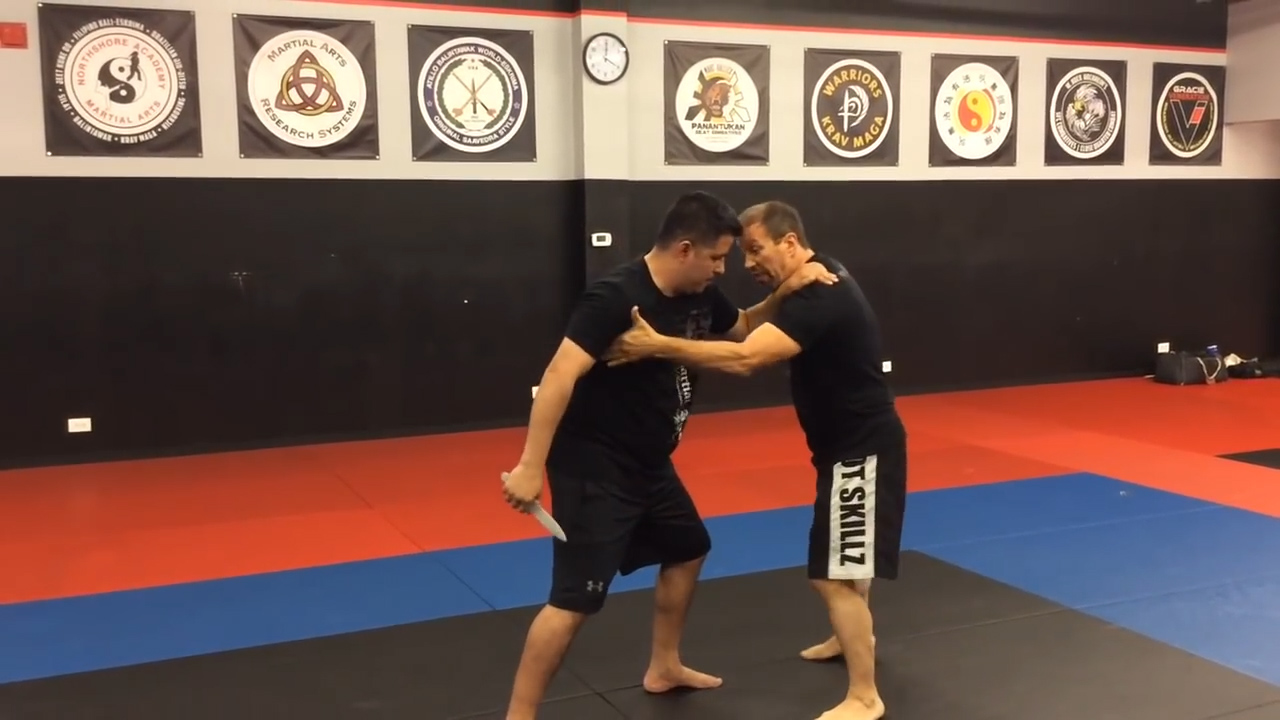knife: (496, 465, 576, 549)
